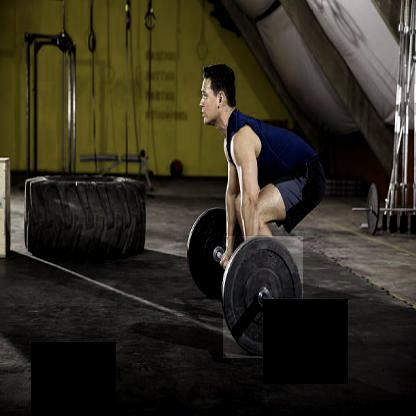barbell: (224, 237, 303, 359)
